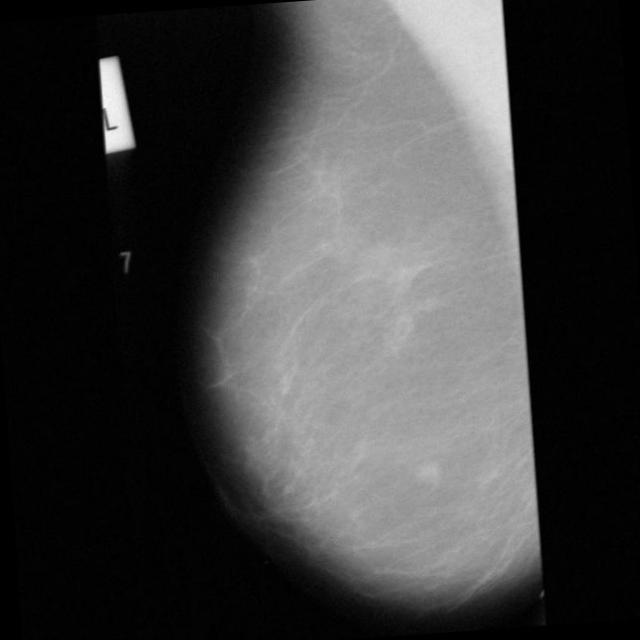CALC: (366, 308, 416, 358)
